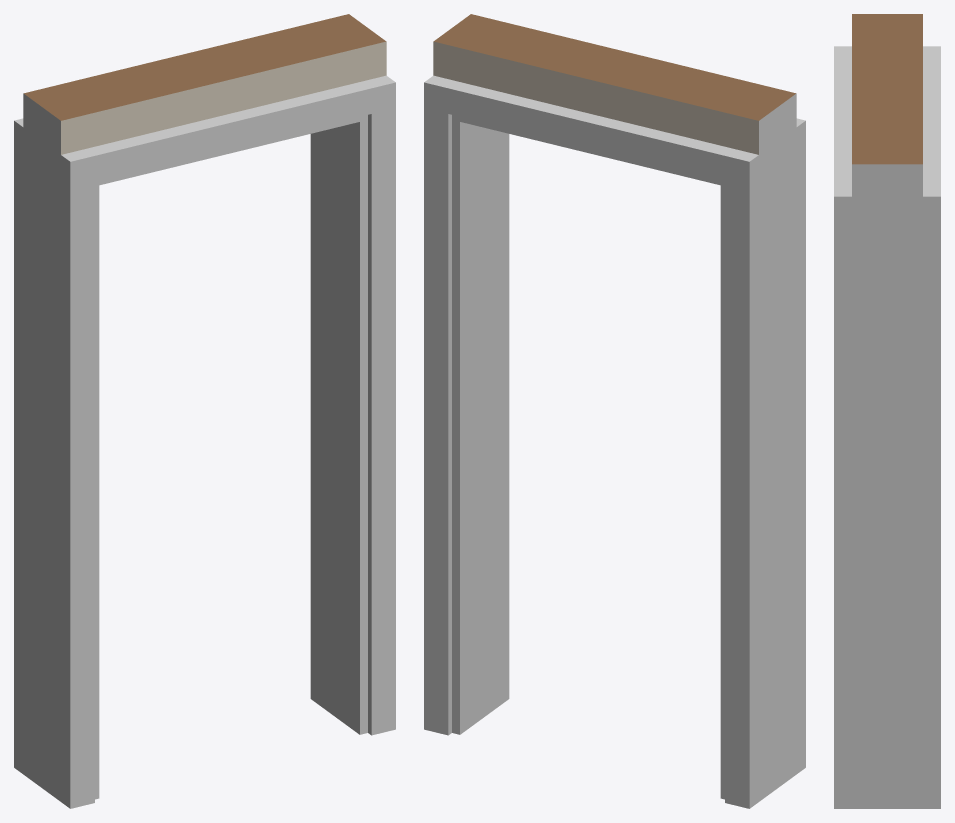
File: Wall_Doorway.obj
3 views of the same model, side by side, from view 1: azimuth 30°, elevation 25°; view 2: azimuth 150°, elevation 25°; view 3: azimuth 270°, elevation 25° (orthographic). The views are drawn at different scales.
Parts seen in each view (by area): view 1: object1; view 2: object1; view 3: object1.
Part boxes in pixels (bbox=[...]): object1: bbox=[14, 14, 395, 808]; object1: bbox=[424, 14, 805, 808]; object1: bbox=[834, 14, 940, 808].
Bounding box in the file's own units: 1 × 2 × 0.3.
